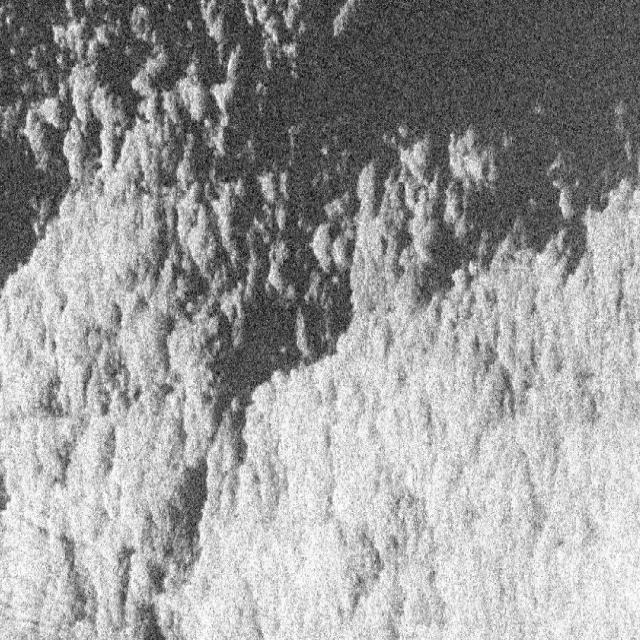look-alike: (388, 8, 630, 247), (194, 10, 350, 370), (2, 15, 94, 216)
